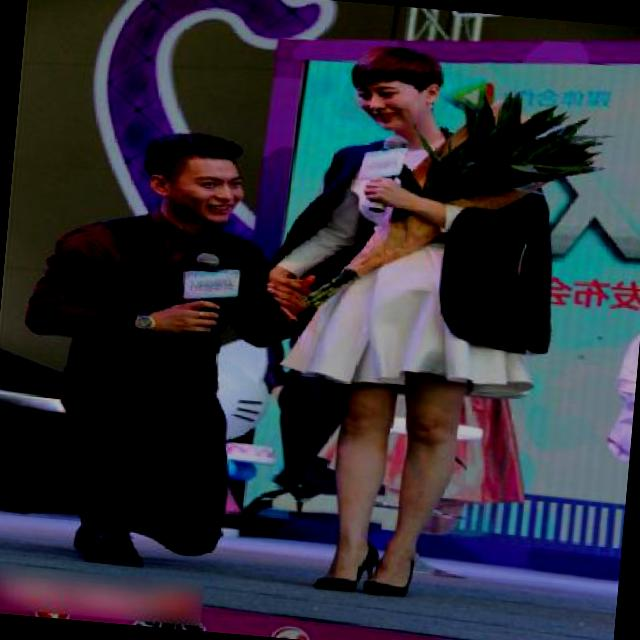Person: (247, 29, 558, 614)
